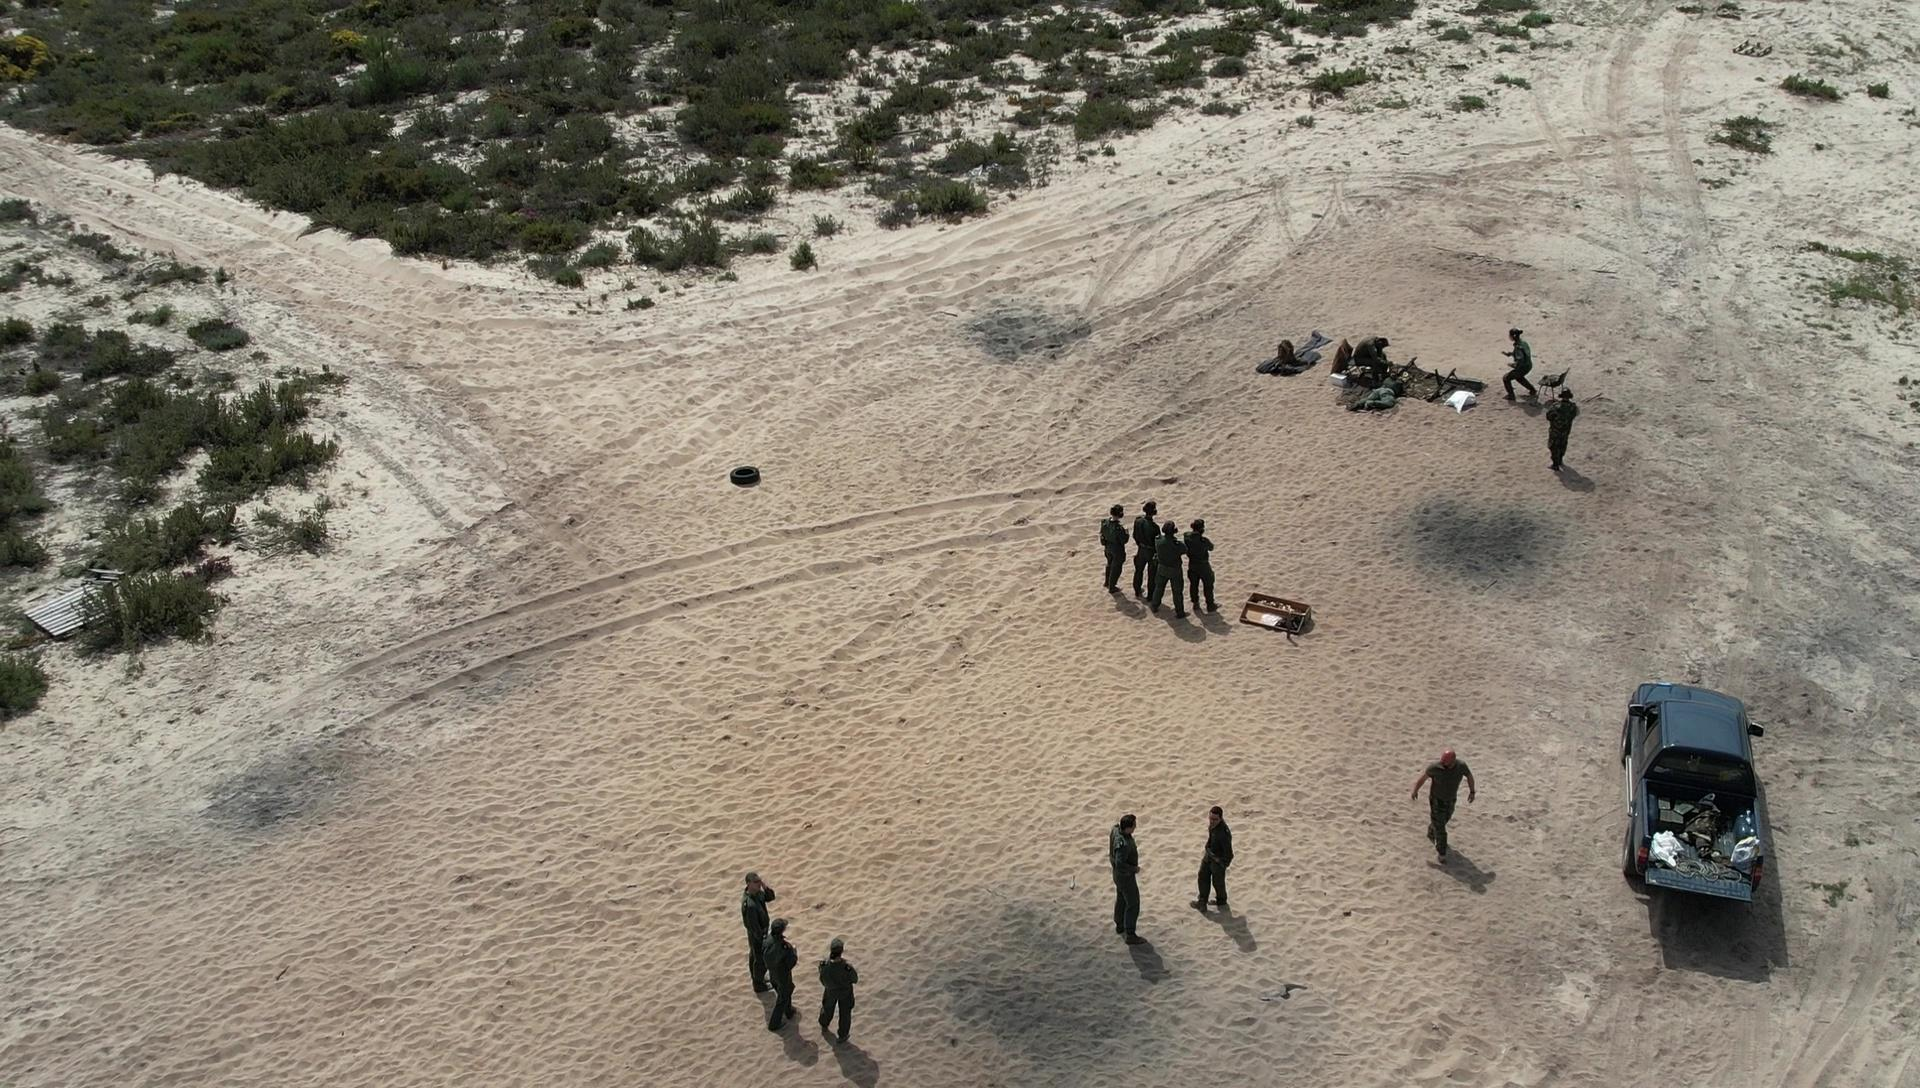Soldier: (1407, 727, 1482, 865), (1105, 799, 1151, 953), (1179, 510, 1233, 630), (1195, 803, 1244, 926), (757, 903, 800, 1039), (1342, 357, 1427, 426), (822, 928, 866, 1052), (1538, 375, 1590, 475), (1156, 517, 1200, 626), (1091, 495, 1135, 599), (1497, 320, 1545, 411), (735, 862, 771, 977), (1127, 499, 1156, 607), (1342, 331, 1398, 381)
